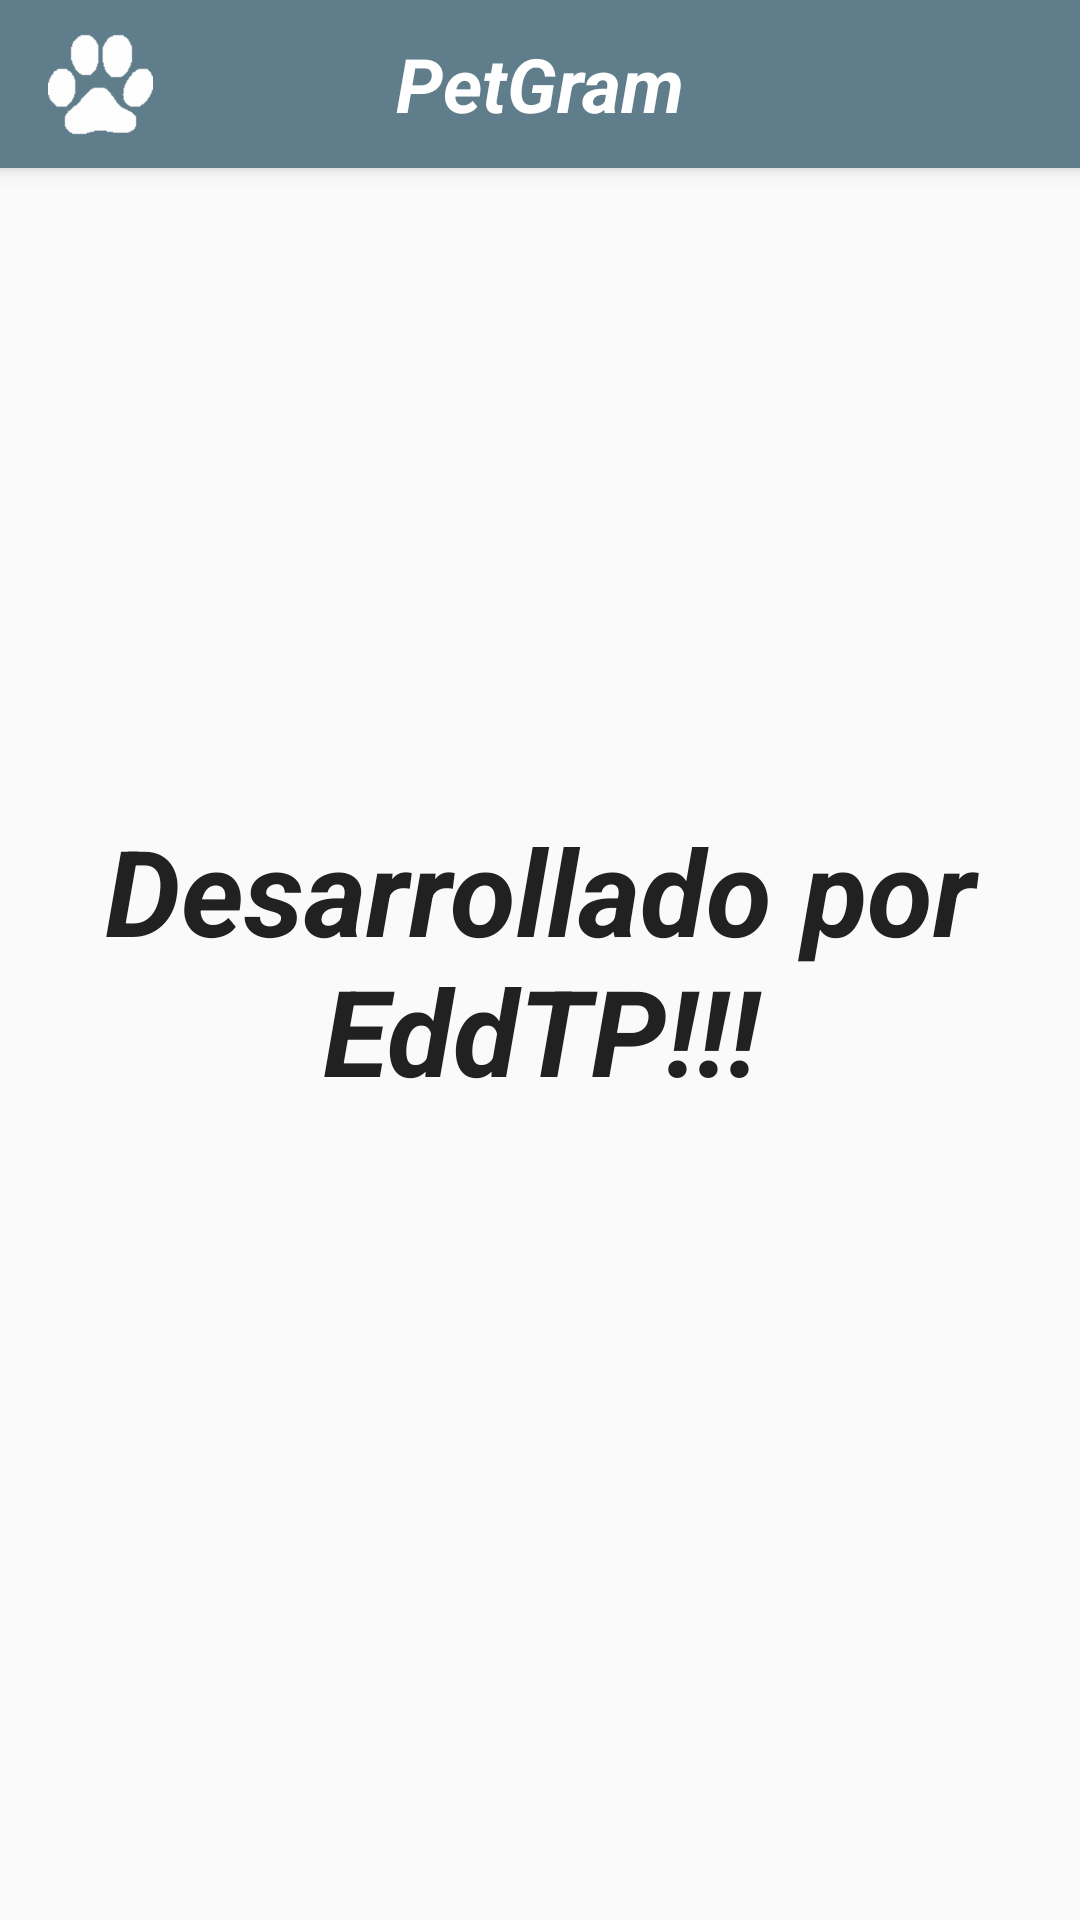

Icon bounding boxes for this 1080px×1920px phone screenshot, format Rect(x1, y1, x2, y2):
incono huella blanca: Rect(48, 35, 153, 134)
